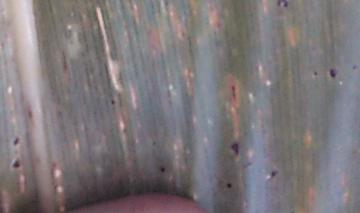tarspot: (326, 64, 341, 83), (229, 139, 242, 160), (274, 1, 294, 10), (11, 158, 22, 173), (267, 167, 280, 179), (10, 135, 21, 147), (311, 67, 321, 79), (349, 62, 358, 74), (107, 98, 117, 108), (225, 181, 235, 191), (159, 164, 167, 174), (150, 139, 158, 148)
